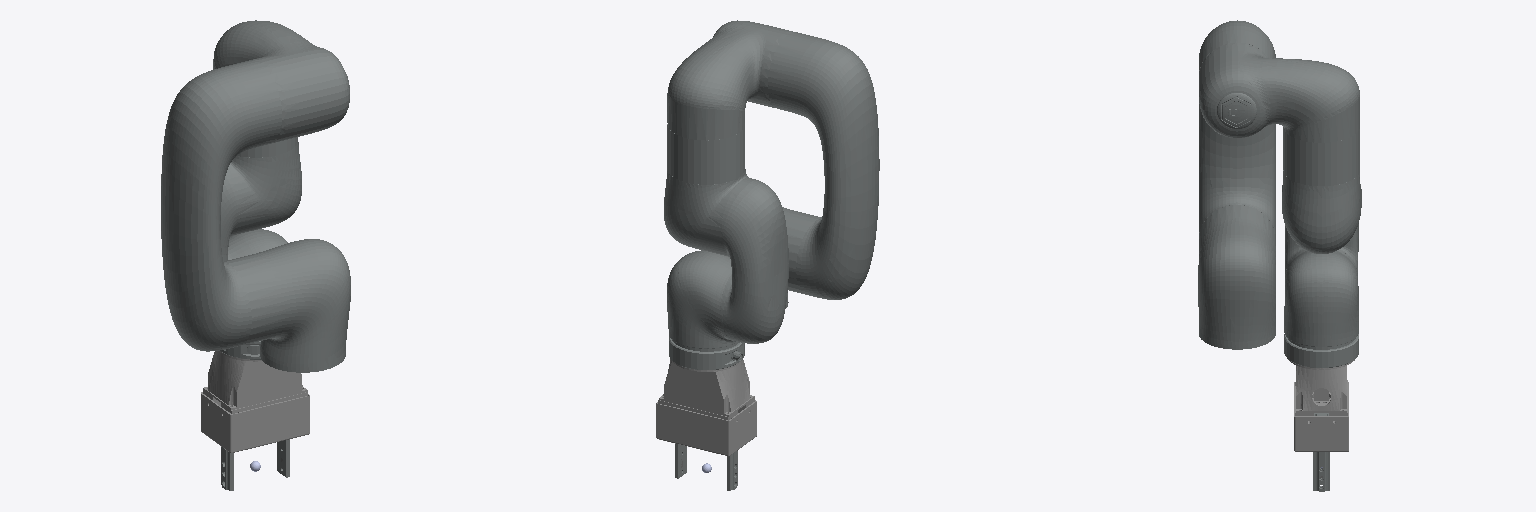
The robot description file, URDF, robot "LiteParallelGriper13":
<?xml version="1.0" encoding="utf-8"?>
<!-- This URDF was automatically created by SolidWorks to URDF Exporter! Originally created by [author] ([email redacted]) 
     Commit Version: 1.6.0-1-g15f4949  Build Version: 1.6.7594.29634
     For more information, please see http://wiki.ros.org/sw_urdf_exporter -->
<robot
  name="LiteParallelGriper13">
  <link
    name="Link0">
    <inertial>
      <origin
        xyz="0.0187322287468848 -6.56268388412897E-05 -0.0018327007667883"
        rpy="0 0 0" />
      <mass
        value="12.8855823721382" />
      <inertia
        ixx="0.0421807652032233"
        ixy="-1.34496706244267E-06"
        ixz="-6.3714884402576E-07"
        iyy="0.0393349785410112"
        iyz="-0.00263642268133378"
        izz="0.0260895105002815" />
    </inertial>
    <visual>
      <origin
        xyz="0 0 0"
        rpy="0 0 0" />
      <geometry>
        <mesh
          filename="package://LiteParallelGriper13/meshes/Link0.STL" />
      </geometry>
      <material
        name="">
        <color
          rgba="0.529411764705882 0.549019607843137 0.549019607843137 1" />
      </material>
    </visual>
    <collision>
      <origin
        xyz="0 0 0"
        rpy="0 0 0" />
      <geometry>
        <mesh
          filename="package://LiteParallelGriper13/meshes/Link0.STL" />
      </geometry>
    </collision>
  </link>
  <link
    name="Link1">
    <inertial>
      <origin
        xyz="0.0151282243672772 0.0579202039090417 2.10306143118288E-06"
        rpy="0 0 0" />
      <mass
        value="5.99821480243843" />
      <inertia
        ixx="0.00736055707938686"
        ixy="-0.00122681746730992"
        ixz="1.68926589082216E-06"
        iyy="0.00854032824475332"
        iyz="-1.74095155299347E-06"
        izz="0.0109840796018939" />
    </inertial>
    <visual>
      <origin
        xyz="0 0 0"
        rpy="0 0 0" />
      <geometry>
        <mesh
          filename="package://LiteParallelGriper13/meshes/Link1.STL" />
      </geometry>
      <material
        name="">
        <color
          rgba="0.529411764705882 0.549019607843137 0.549019607843137 1" />
      </material>
    </visual>
    <collision>
      <origin
        xyz="0 0 0"
        rpy="0 0 0" />
      <geometry>
        <mesh
          filename="package://LiteParallelGriper13/meshes/Link1.STL" />
      </geometry>
    </collision>
  </link>
  <joint
    name="Joint1"
    type="revolute">
    <origin
      xyz="0.0187337045920399 0.00814213077337093 0.108012813287898"
      rpy="1.5707963267949 0 3.14159265358979" />
    <parent
      link="Link0" />
    <child
      link="Link1" />
    <axis
      xyz="0 1 0" />
    <limit
      lower="-3.14"
      upper="3.14"
      effort="87"
      velocity="0.5" />
  </joint>
  <link
    name="Link2">
    <inertial>
      <origin
        xyz="0.0577699955668527 0.114688998930113 6.50921205130883E-09"
        rpy="0 0 0" />
      <mass
        value="8.39602194903483" />
      <inertia
        ixx="0.05822463187119"
        ixy="0.005449943676994"
        ixz="3.32883133356236E-08"
        iyy="0.00791087183232519"
        iyz="7.6854982773599E-08"
        izz="0.0594812525189201" />
    </inertial>
    <visual>
      <origin
        xyz="0 0 0"
        rpy="0 0 0" />
      <geometry>
        <mesh
          filename="package://LiteParallelGriper13/meshes/Link2.STL" />
      </geometry>
      <material
        name="">
        <color
          rgba="0.529411764705882 0.549019607843137 0.549019607843137 1" />
      </material>
    </visual>
    <collision>
      <origin
        xyz="0 0 0"
        rpy="0 0 0" />
      <geometry>
        <mesh
          filename="package://LiteParallelGriper13/meshes/Link2.STL" />
      </geometry>
    </collision>
  </link>
  <joint
    name="Joint2"
    type="revolute">
    <origin
      xyz="0.0449999999999966 0.0700027545007157 0"
      rpy="0 0 0" />
    <parent
      link="Link1" />
    <child
      link="Link2" />
    <axis
      xyz="1 0 0" />
    <limit
      lower="-2.61"
      upper="2.61"
      effort="87"
      velocity="0.5" />
    <dynamics
      damping="10" />
  </joint>
  <link
    name="Link3">
    <inertial>
      <origin
        xyz="-0.0425934274822807 -0.0374553901833625 -0.000573604184714915"
        rpy="0 0 0" />
      <mass
        value="5.96806049731486" />
      <inertia
        ixx="0.0139175269455531"
        ixy="-0.00073291993122514"
        ixz="3.26752318005766E-05"
        iyy="0.00489185564121682"
        iyz="-0.000518483056940989"
        izz="0.0143249369318369" />
    </inertial>
    <visual>
      <origin
        xyz="0 0 0"
        rpy="0 0 0" />
      <geometry>
        <mesh
          filename="package://LiteParallelGriper13/meshes/Link3.STL" />
      </geometry>
      <material
        name="">
        <color
          rgba="0.529411764705882 0.549019607843137 0.549019607843137 1" />
      </material>
    </visual>
    <collision>
      <origin
        xyz="0 0 0"
        rpy="0 0 0" />
      <geometry>
        <mesh
          filename="package://LiteParallelGriper13/meshes/Link3.STL" />
      </geometry>
    </collision>
  </link>
  <joint
    name="Joint3"
    type="revolute">
    <origin
      xyz="0 0.199999999987168 0"
      rpy="-1.5707963267949 0 0" />
    <parent
      link="Link2" />
    <child
      link="Link3" />
    <axis
      xyz="1 0 0" />
    <limit
      lower="-5.235"
      upper="0.061"
      effort="87"
      velocity="0.5" />
    <dynamics
      damping="10" />
  </joint>
  <link
    name="Link4">
    <inertial>
      <origin
        xyz="0.0251922078648439 -6.18100934171584E-07 -0.0977081211835792"
        rpy="0 0 0" />
      <mass
        value="9.35582673487368" />
      <inertia
        ixx="0.0188950501990782"
        ixy="-1.81366055319957E-07"
        ixz="0.00591641230670455"
        iyy="0.0245860789108173"
        iyz="2.09735637121099E-07"
        izz="0.013475465662261" />
    </inertial>
    <visual>
      <origin
        xyz="0 0 0"
        rpy="0 0 0" />
      <geometry>
        <mesh
          filename="package://LiteParallelGriper13/meshes/Link4.STL" />
      </geometry>
      <material
        name="">
        <color
          rgba="0.529411764705882 0.549019607843137 0.549019607843137 1" />
      </material>
    </visual>
    <collision>
      <origin
        xyz="0 0 0"
        rpy="0 0 0" />
      <geometry>
        <mesh
          filename="package://LiteParallelGriper13/meshes/Link4.STL" />
      </geometry>
    </collision>
  </link>
  <joint
    name="Joint4"
    type="revolute">
    <origin
      xyz="-0.044699978983182 -0.0870000000340607 -0.035000000000003"
      rpy="0 0 0" />
    <parent
      link="Link3" />
    <child
      link="Link4" />
    <axis
      xyz="0 0 1" />
    <limit
      lower="-3.14"
      upper="3.14"
      effort="87"
      velocity="0.5" />
    <dynamics
      damping="10" />
  </joint>
  <link
    name="Link5">
    <inertial>
      <origin
        xyz="0.00343448747071418 -8.04378594607136E-07 -0.00164502407518374"
        rpy="0 0 0" />
      <mass
        value="3.17783022879643" />
      <inertia
        ixx="0.00279756072551773"
        ixy="-2.26540173627046E-08"
        ixz="-4.89690444119526E-05"
        iyy="0.00296754506089067"
        iyz="6.22311952518936E-08"
        izz="0.00260962441438699" />
    </inertial>
    <visual>
      <origin
        xyz="0 0 0"
        rpy="0 0 0" />
      <geometry>
        <mesh
          filename="package://LiteParallelGriper13/meshes/Link5.STL" />
      </geometry>
      <material
        name="">
        <color
          rgba="0.529411764705882 0.549019607843137 0.549019607843137 1" />
      </material>
    </visual>
    <collision>
      <origin
        xyz="0 0 0"
        rpy="0 0 0" />
      <geometry>
        <mesh
          filename="package://LiteParallelGriper13/meshes/Link5.STL" />
      </geometry>
    </collision>
  </link>
  <joint
    name="Joint5"
    type="revolute">
    <origin
      xyz="0 0 -0.192109997090373"
      rpy="0 0 0" />
    <parent
      link="Link4" />
    <child
      link="Link5" />
    <axis
      xyz="1 0 0" />
    <limit
      lower="-2.16"
      upper="2.16"
      effort="12"
      velocity="1" />
    <dynamics
      damping="10" />
  </joint>
  <link
    name="Link6">
    <inertial>
      <origin
        xyz="0.000129775439409643 -6.08316835181422E-05 -0.0111159148463915"
        rpy="0 0 0" />
      <mass
        value="0.658519938749683" />
      <inertia
        ixx="0.000285334877578837"
        ixy="-2.31058087384026E-07"
        ixz="2.82962089052413E-07"
        iyy="0.000283252143152698"
        iyz="-4.81041652298358E-07"
        izz="0.00051186170828112" />
    </inertial>
    <visual>
      <origin
        xyz="0 0 0"
        rpy="0 0 0" />
      <geometry>
        <mesh
          filename="package://LiteParallelGriper13/meshes/Link6.STL" />
      </geometry>
      <material
        name="">
        <color
          rgba="0.529411764705882 0.549019607843137 0.549019607843137 1" />
      </material>
    </visual>
    <collision>
      <origin
        xyz="0 0 0"
        rpy="0 0 0" />
      <geometry>
        <mesh
          filename="package://LiteParallelGriper13/meshes/Link6.STL" />
      </geometry>
    </collision>
  </link>
  <joint
    name="Joint6"
    type="revolute">
    <origin
      xyz="0.00050000000002997 0 -0.0409999975188"
      rpy="0 0 2.98830567660642" />
    <parent
      link="Link5" />
    <child
      link="Link6" />
    <axis
      xyz="0 0 1" />
    <limit
      lower="-3.14"
      upper="3.14"
      effort="12"
      velocity="1" />
    <dynamics
      damping="10" />
  </joint>
  <link
    name="Link_hand">
    <inertial>
      <origin
        xyz="-0.00577018770496187 -6.93756742650709E-07 -0.00204489384929187"
        rpy="0 0 0" />
      <mass
        value="0.0615357933508534" />
      <inertia
        ixx="3.70344948670529E-05"
        ixy="4.8532829219687E-09"
        ixz="-2.12085206451166E-07"
        iyy="6.46545137076904E-05"
        iyz="9.49641231637392E-11"
        izz="7.92466148342026E-05" />
    </inertial>
    <visual>
      <origin
        xyz="0 0 0"
        rpy="0 0 0" />
      <geometry>
        <mesh
          filename="package://LiteParallelGriper13/meshes/Link_hand.STL" />
      </geometry>
      <material
        name="">
        <color
          rgba="0.627450980392157 0.627450980392157 0.627450980392157 1" />
      </material>
    </visual>
    <collision>
      <origin
        xyz="0 0 0"
        rpy="0 0 0" />
      <geometry>
        <mesh
          filename="package://LiteParallelGriper13/meshes/Link_hand.STL" />
      </geometry>
    </collision>
  </link>
  <joint
    name="Jointhand"
    type="fixed">
    <origin
      xyz="-0.00592964731440341 -0.000916124336347815 -0.0740000000000013"
      rpy="3.14159265358979 0 -2.98830567660642" />
    <parent
      link="Link6" />
    <child
      link="Link_hand" />
    <axis
      xyz="0 0 0" />
    <limit
      lower="0"
      effort="0"
      velocity="0" />
  </joint>
  <link
    name="F1">
    <inertial>
      <origin
        xyz="0 -0.0363190407693245 -0.00315331714414065"
        rpy="0 0 0" />
      <mass
        value="0.0353073426547683" />
      <inertia
        ixx="1.04657503943408E-05"
        ixy="-8.63046899567037E-21"
        ixz="6.21258566282228E-22"
        iyy="1.04221536500834E-06"
        iyz="7.07521891798713E-07"
        izz="1.09576335302811E-05" />
    </inertial>
    <visual>
      <origin
        xyz="0 0 0"
        rpy="0 0 0" />
      <geometry>
        <mesh
          filename="package://LiteParallelGriper13/meshes/F1.STL" />
      </geometry>
      <material
        name="">
        <color
          rgba="0.529411764705882 0.549019607843137 0.549019607843137 1" />
      </material>
    </visual>
    <collision>
      <origin
        xyz="0 0 0"
        rpy="0 0 0" />
      <geometry>
        <mesh
          filename="package://LiteParallelGriper13/meshes/F1.STL" />
      </geometry>
    </collision>
  </link>
  <joint
    name="Joint_f1"
    type="prismatic">
    <origin
      xyz="0.0224 2.8968E-05 0.024562"
      rpy="-1.5708 0 1.5708" />
    <parent
      link="Link_hand" />
    <child
      link="F1" />
    <axis
      xyz="0 0 1" />
    <limit
      lower="0"
      upper="0.02"
      effort="200"
      velocity="0.1" />
    <dynamics
      damping="10"
      friction="0" />
  </joint>
  <link
    name="F1point">
    <inertial>
      <origin
        xyz="-8.32667268468867E-17 2.77555756156289E-17 0.00100000000000009"
        rpy="0 0 0" />
      <mass
        value="0.00013" />
      <inertia
        ixx="3.14166666666667E-10"
        ixy="1.29769790307469E-25"
        ixz="-8.21096048879193E-26"
        iyy="1.12666666666667E-09"
        iyz="2.19200985498401E-26"
        izz="1.35416666666667E-09" />
    </inertial>
    <visual>
      <origin
        xyz="0 0 0"
        rpy="0 0 0" />
      <geometry>
        <mesh
          filename="package://LiteParallelGriper13/meshes/F1point.STL" />
      </geometry>
      <material
        name="">
        <color
          rgba="0.498039215686275 0.498039215686275 0.498039215686275 1" />
      </material>
    </visual>
    <collision>
      <origin
        xyz="0 0 0"
        rpy="0 0 0" />
      <geometry>
        <mesh
          filename="package://LiteParallelGriper13/meshes/F1point.STL" />
      </geometry>
    </collision>
  </link>
  <joint
    name="f1_pjoint"
    type="fixed">
    <origin
      xyz="0 -0.0530000000000038 0"
      rpy="3.14159265358979 0 1.5707963267949" />
    <parent
      link="F1" />
    <child
      link="F1point" />
    <axis
      xyz="0 0 0" />
  </joint>
  <link
    name="F2">
    <inertial>
      <origin
        xyz="-0.0951497685432137 0.0249757861568675 0.0494870007193379"
        rpy="0 0 0" />
      <mass
        value="0.0353073426547682" />
      <inertia
        ixx="1.04657503943408E-05"
        ixy="8.60783264703639E-21"
        ixz="-1.10753862432741E-21"
        iyy="1.04221536500834E-06"
        iyz="7.07521891798711E-07"
        izz="1.0957633530281E-05" />
    </inertial>
    <visual>
      <origin
        xyz="0 0 0"
        rpy="0 0 0" />
      <geometry>
        <mesh
          filename="package://LiteParallelGriper13/meshes/F2.STL" />
      </geometry>
      <material
        name="">
        <color
          rgba="0.529411764705882 0.549019607843137 0.549019607843137 1" />
      </material>
    </visual>
    <collision>
      <origin
        xyz="0 0 0"
        rpy="0 0 0" />
      <geometry>
        <mesh
          filename="package://LiteParallelGriper13/meshes/F2.STL" />
      </geometry>
    </collision>
  </link>
  <joint
    name="Joint_f2"
    type="prismatic">
    <origin
      xyz="0.011934 -0.095143 0.035906"
      rpy="1.5708 0 -1.5708" />
    <parent
      link="Link_hand" />
    <child
      link="F2" />
    <axis
      xyz="0 0 -1" />
    <limit
      lower="0"
      upper="0.02"
      effort="200"
      velocity="0.1" />
    <dynamics
      damping="10"
      friction="0" />
    <mimic
      joint="Joint_f1"
      multiplier="1"
      offset="0" />
  </joint>
  <link
    name="F2point">
    <inertial>
      <origin
        xyz="0 -1.38777878078145E-17 0.001"
        rpy="0 0 0" />
      <mass
        value="0.00013" />
      <inertia
        ixx="3.14166666666666E-10"
        ixy="-2.44035577640732E-24"
        ixz="-5.64720541971518E-25"
        iyy="1.12666666666667E-09"
        iyz="7.74482625146957E-26"
        izz="1.35416666666666E-09" />
    </inertial>
    <visual>
      <origin
        xyz="0 0 0"
        rpy="0 0 0" />
      <geometry>
        <mesh
          filename="package://LiteParallelGriper13/meshes/F2point.STL" />
      </geometry>
      <material
        name="">
        <color
          rgba="0.498039215686275 0.498039215686275 0.498039215686275 1" />
      </material>
    </visual>
    <collision>
      <origin
        xyz="0 0 0"
        rpy="0 0 0" />
      <geometry>
        <mesh
          filename="package://LiteParallelGriper13/meshes/F2point.STL" />
      </geometry>
    </collision>
  </link>
  <joint
    name="f2_pjoint"
    type="fixed">
    <origin
      xyz="-0.0951497685432133 0.0416567453875475 0.0463336835751821"
      rpy="0 0 -1.5707963267949" />
    <parent
      link="F2" />
    <child
      link="F2point" />
    <axis
      xyz="0 0 0" />
  </joint>
  <link
    name="GripSite">
    <inertial>
      <origin
        xyz="0.00983482262920798 -0.0155937112614594 0.00491998063763813"
        rpy="0 0 0" />
      <mass
        value="0.000523598775598299" />
      <inertia
        ixx="5.23598775598299E-09"
        ixy="-2.06795153138257E-25"
        ixz="-6.20385459414771E-25"
        iyy="5.23598775598299E-09"
        iyz="5.16987882845642E-25"
        izz="5.23598775598299E-09" />
    </inertial>
    <visual>
      <origin
        xyz="0 0 0"
        rpy="0 0 0" />
      <geometry>
        <mesh
          filename="package://LiteParallelGriper13/meshes/GripSite.STL" />
      </geometry>
      <material
        name="">
        <color
          rgba="0.792156862745098 0.819607843137255 0.933333333333333 1" />
      </material>
    </visual>
  </link>
  <joint
    name="gripjoint"
    type="fixed">
    <origin
      xyz="-0.0021101 0.0017696 0.058966"
      rpy="-1.1646 -0.33468 -2.3203" />
    <parent
      link="Link_hand" />
    <child
      link="GripSite" />
    <axis
      xyz="0 0 0" />
  </joint>
</robot>

--- Facts derived from the render (not from the file) ---
The picture shows the robot from 3 angles, left to right: view 1: azimuth 30°, elevation 25°; view 2: azimuth 150°, elevation 25°; view 3: azimuth 270°, elevation 25°; orthographic projection.
Model LiteParallelGriper13 with 13 links and 12 joints (6 revolute, 2 prismatic, 4 fixed), rooted at Link0, posed every joint at zero.
Links seen in each view (by area): view 1: Link2, Link1, Link3, Link_hand, Link4, Link5; view 2: Link2, Link4, Link3, Link_hand, Link5, Link6, Link1; view 3: Link3, Link1, Link4, Link2, Link5, Link_hand, Link6, F2.
Link boxes in pixels (box(x1,y1,x2,y2)): Link2: box(161, 60, 282, 351); Link1: box(224, 239, 350, 372); Link3: box(213, 20, 349, 142); Link_hand: box(201, 351, 309, 452); Link4: box(221, 137, 301, 261); Link5: box(228, 229, 287, 259); Link2: box(768, 32, 879, 299); Link4: box(664, 124, 788, 343); Link3: box(667, 20, 792, 140); Link_hand: box(656, 359, 756, 455); Link5: box(667, 250, 736, 348); Link6: box(669, 336, 744, 369); Link1: box(782, 207, 821, 307); Link3: box(1199, 43, 1359, 142); Link1: box(1198, 205, 1275, 349); Link4: box(1282, 127, 1361, 273); Link2: box(1199, 20, 1275, 234); Link5: box(1284, 250, 1358, 346); Link_hand: box(1288, 359, 1354, 451); Link6: box(1284, 334, 1358, 367); F2: box(1313, 452, 1329, 491).
Size in the robot's own frame: 0.1876 by 0.1686 by 0.4747 metres.
12 mesh visuals loaded from 13 distinct referenced files (12 binary STL); not drawn: 1 (reference not matched to a file when rendering).